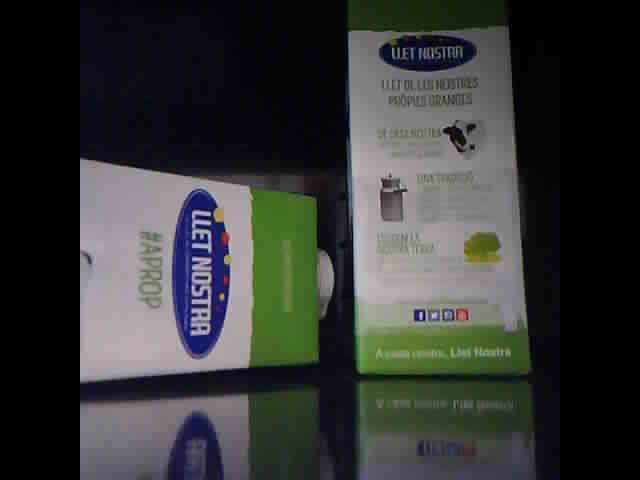leche: (348, 5, 532, 375), (79, 157, 336, 385)
